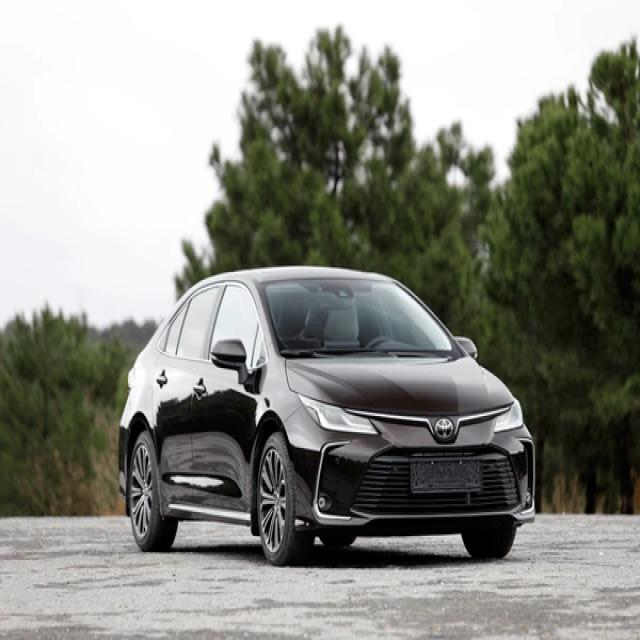toyota: (432, 416, 457, 441)
